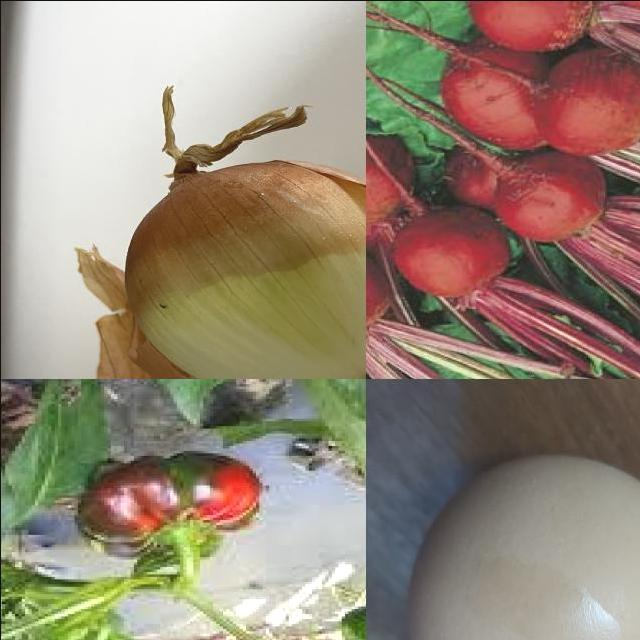beet: (443, 35, 545, 151), (485, 148, 609, 243), (537, 50, 640, 161), (397, 208, 519, 296), (438, 1, 611, 43), (366, 126, 430, 223), (366, 240, 406, 349)
bell_pepper: (64, 452, 272, 564)
egg: (403, 445, 640, 640)
onion: (121, 88, 366, 379)
